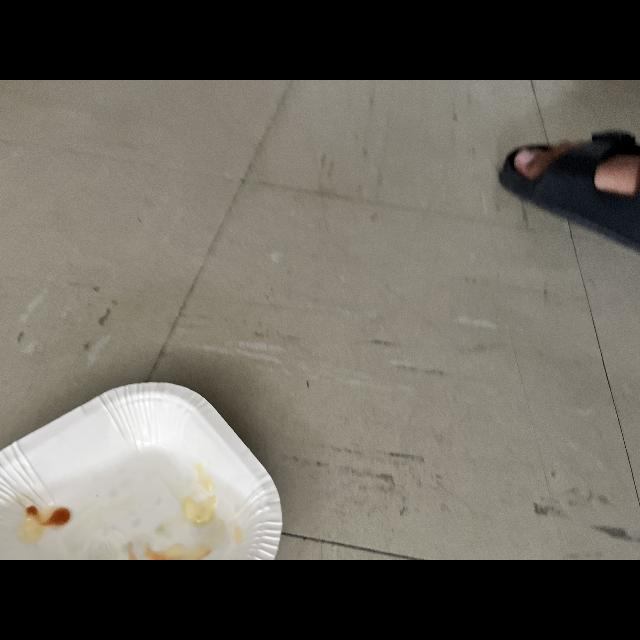cardboard_bowl: (0, 376, 294, 560)
